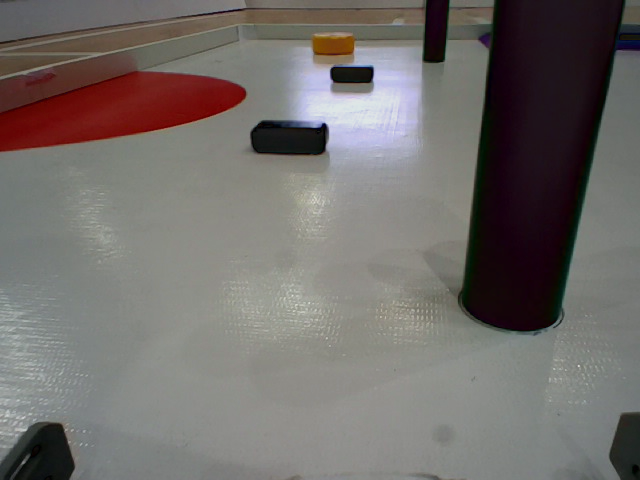black: (245, 120, 331, 148), (326, 65, 378, 84)
yellow: (313, 32, 355, 57)
zhuzi: (469, 1, 623, 335), (418, 1, 450, 64)
